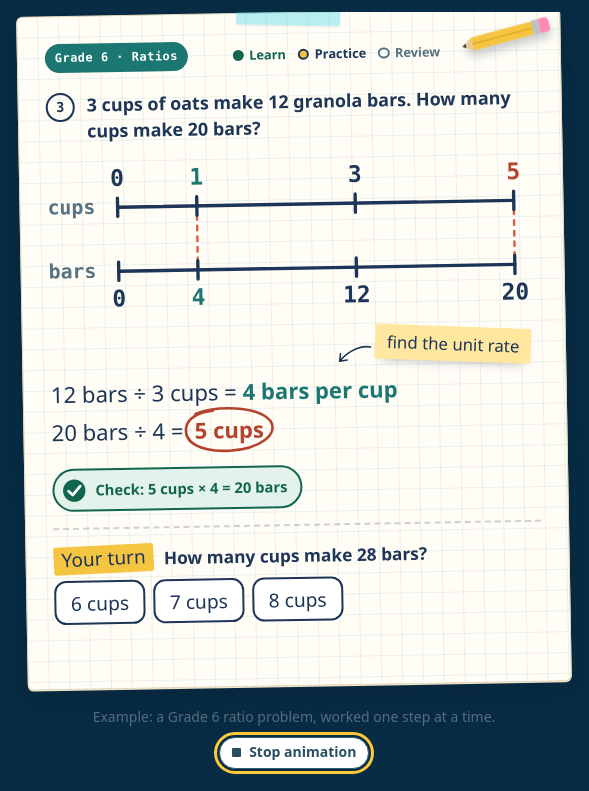
Test case: worked problem on the page › Stop animation shows the solved problem at once, keeps it, and leaves keyboard focus on the board
Click the button "Stop animation" at (294, 753), box x1=218 y1=737 x2=369 y2=769
Wait 60000 ms
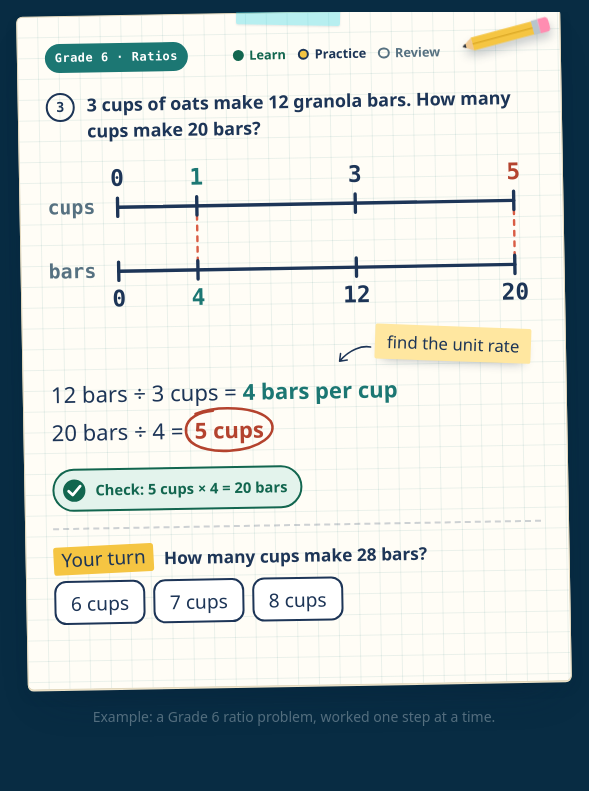
expect the element that starts with "Grade 6 · Ratios" shows "Check: 5 cups × 4 = 20 bars": met, box x1=95 y1=476 x2=288 y2=499
expect the button "Stop animation" is gone: met
